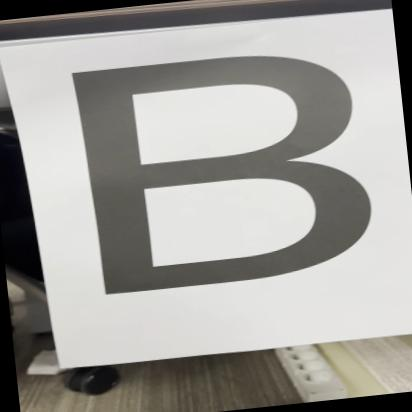seat: (44, 25, 402, 318)
